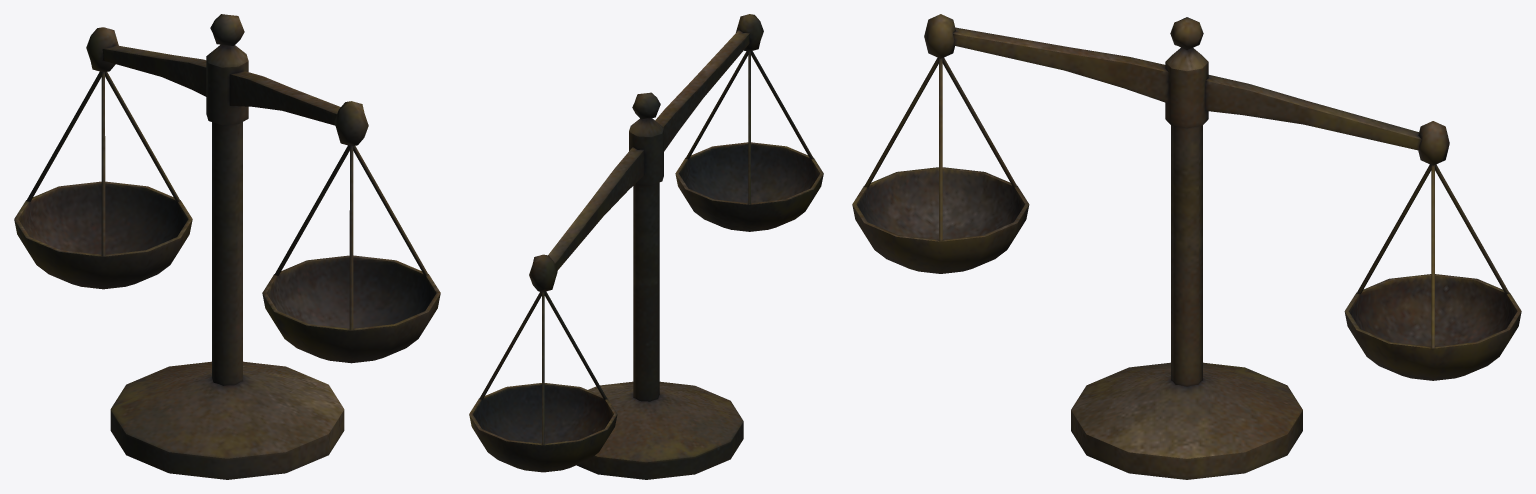
Rendered from Relic_Envy01.obj.
The picture shows the model from 3 angles, left to right: view 1: azimuth 30°, elevation 25°; view 2: azimuth 150°, elevation 25°; view 3: azimuth 270°, elevation 25°; orthographic projection. The views are drawn at different scales.
Parts seen in each view (by area): view 1: Relic_Envy01 Fix; view 2: Relic_Envy01 Fix; view 3: Relic_Envy01 Fix.
Part boxes in pixels (bbox=[...]): Relic_Envy01 Fix: bbox=[14, 14, 440, 479]; Relic_Envy01 Fix: bbox=[469, 14, 823, 479]; Relic_Envy01 Fix: bbox=[852, 14, 1521, 479].
Bounding box in the file's own units: 10 × 19.82 × 28.85.
Materials: 1 (1 with a texture image).
